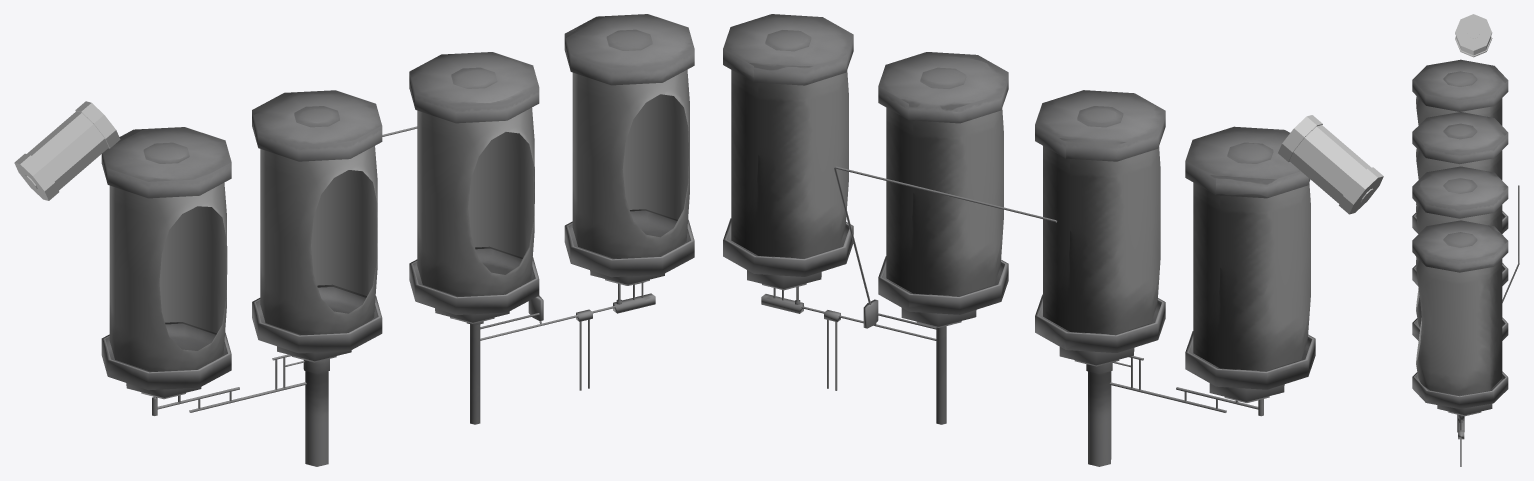
File: CharacterSelect_Model.fbx
3 renders of one model, left to right at view 1: azimuth 30°, elevation 25°; view 2: azimuth 150°, elevation 25°; view 3: azimuth 270°, elevation 25°, orthographic. The views are drawn at different scales.
Visible parts, largest first — view 1: polySurface22, polySurface11, polySurface12, polySurface13, polySurface14, polySurface17; view 2: polySurface22, polySurface14, polySurface13, polySurface11, polySurface12, polySurface17; view 3: polySurface22, polySurface11, polySurface17, polySurface12, polySurface13, polySurface14.
Boxes of the visible parts, box(x1,y1,x2,y2) form: polySurface22: box(101, 14, 694, 466); polySurface11: box(572, 69, 689, 258); polySurface12: box(417, 107, 534, 296); polySurface13: box(260, 146, 377, 334); polySurface14: box(109, 182, 227, 371); polySurface17: box(14, 101, 120, 200); polySurface22: box(723, 14, 1315, 466); polySurface14: box(1193, 182, 1310, 371); polySurface13: box(1043, 146, 1160, 334); polySurface11: box(731, 70, 848, 258); polySurface12: box(886, 107, 1003, 296); polySurface17: box(1278, 115, 1383, 214); polySurface22: box(1412, 59, 1519, 466); polySurface11: box(1416, 257, 1502, 395); polySurface17: box(1455, 14, 1492, 57); polySurface12: box(1416, 203, 1502, 327); polySurface13: box(1416, 148, 1502, 257); polySurface14: box(1416, 96, 1502, 204).
Size of the model in its own units: 28.02 by 16.45 by 5.56.
